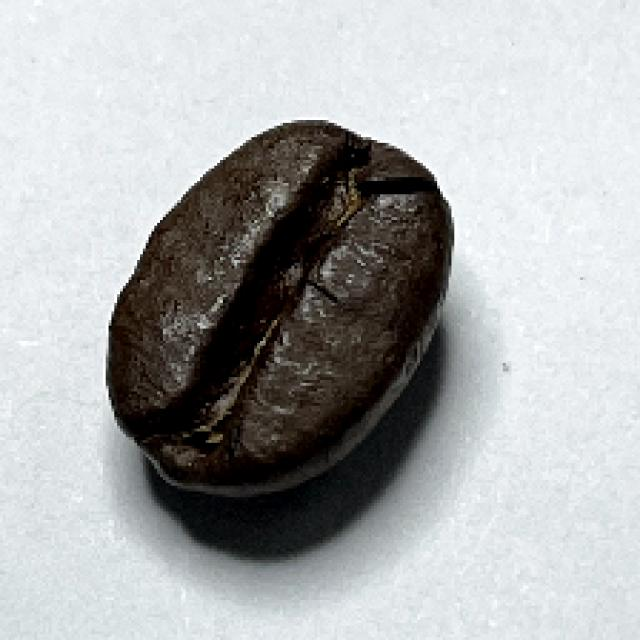bean: (104, 118, 453, 498)
